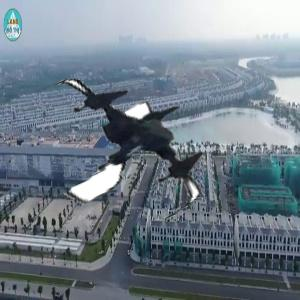drone: (42, 59, 215, 232)
